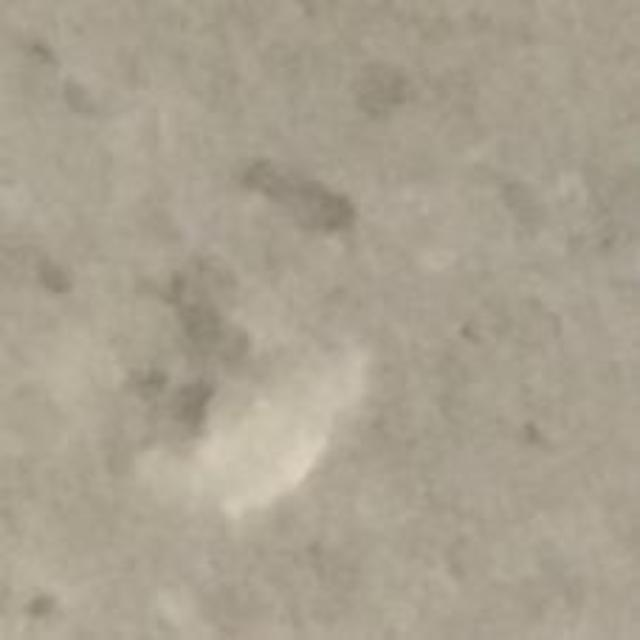peeling plaster: (141, 342, 369, 521)
